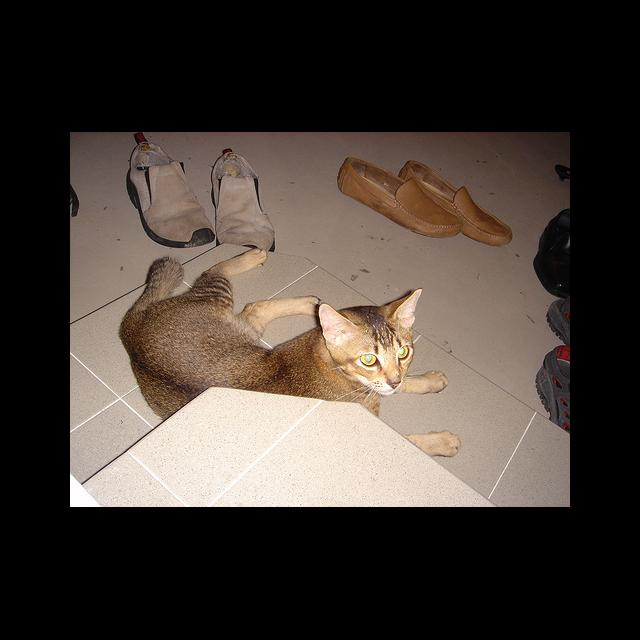animals: (323, 290, 420, 388)
